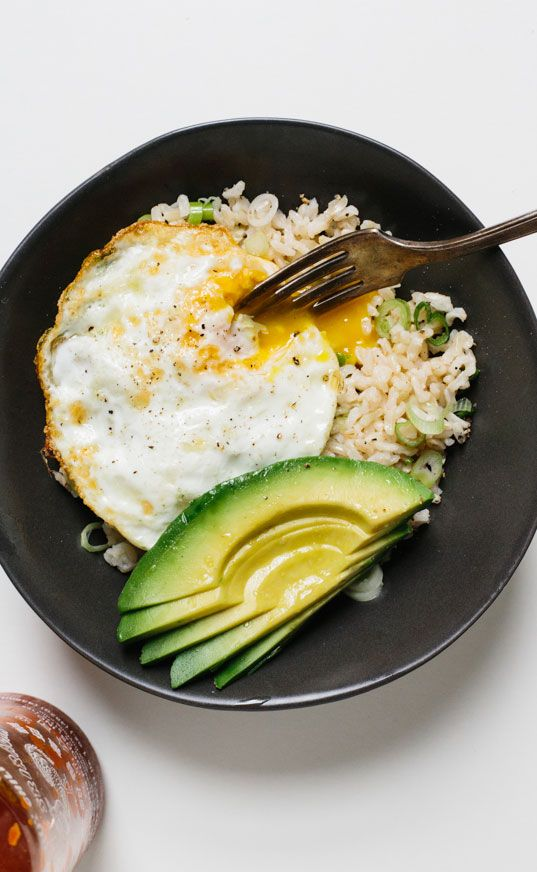fried egg: (75, 261, 303, 465)
plain rice: (352, 331, 454, 462)
